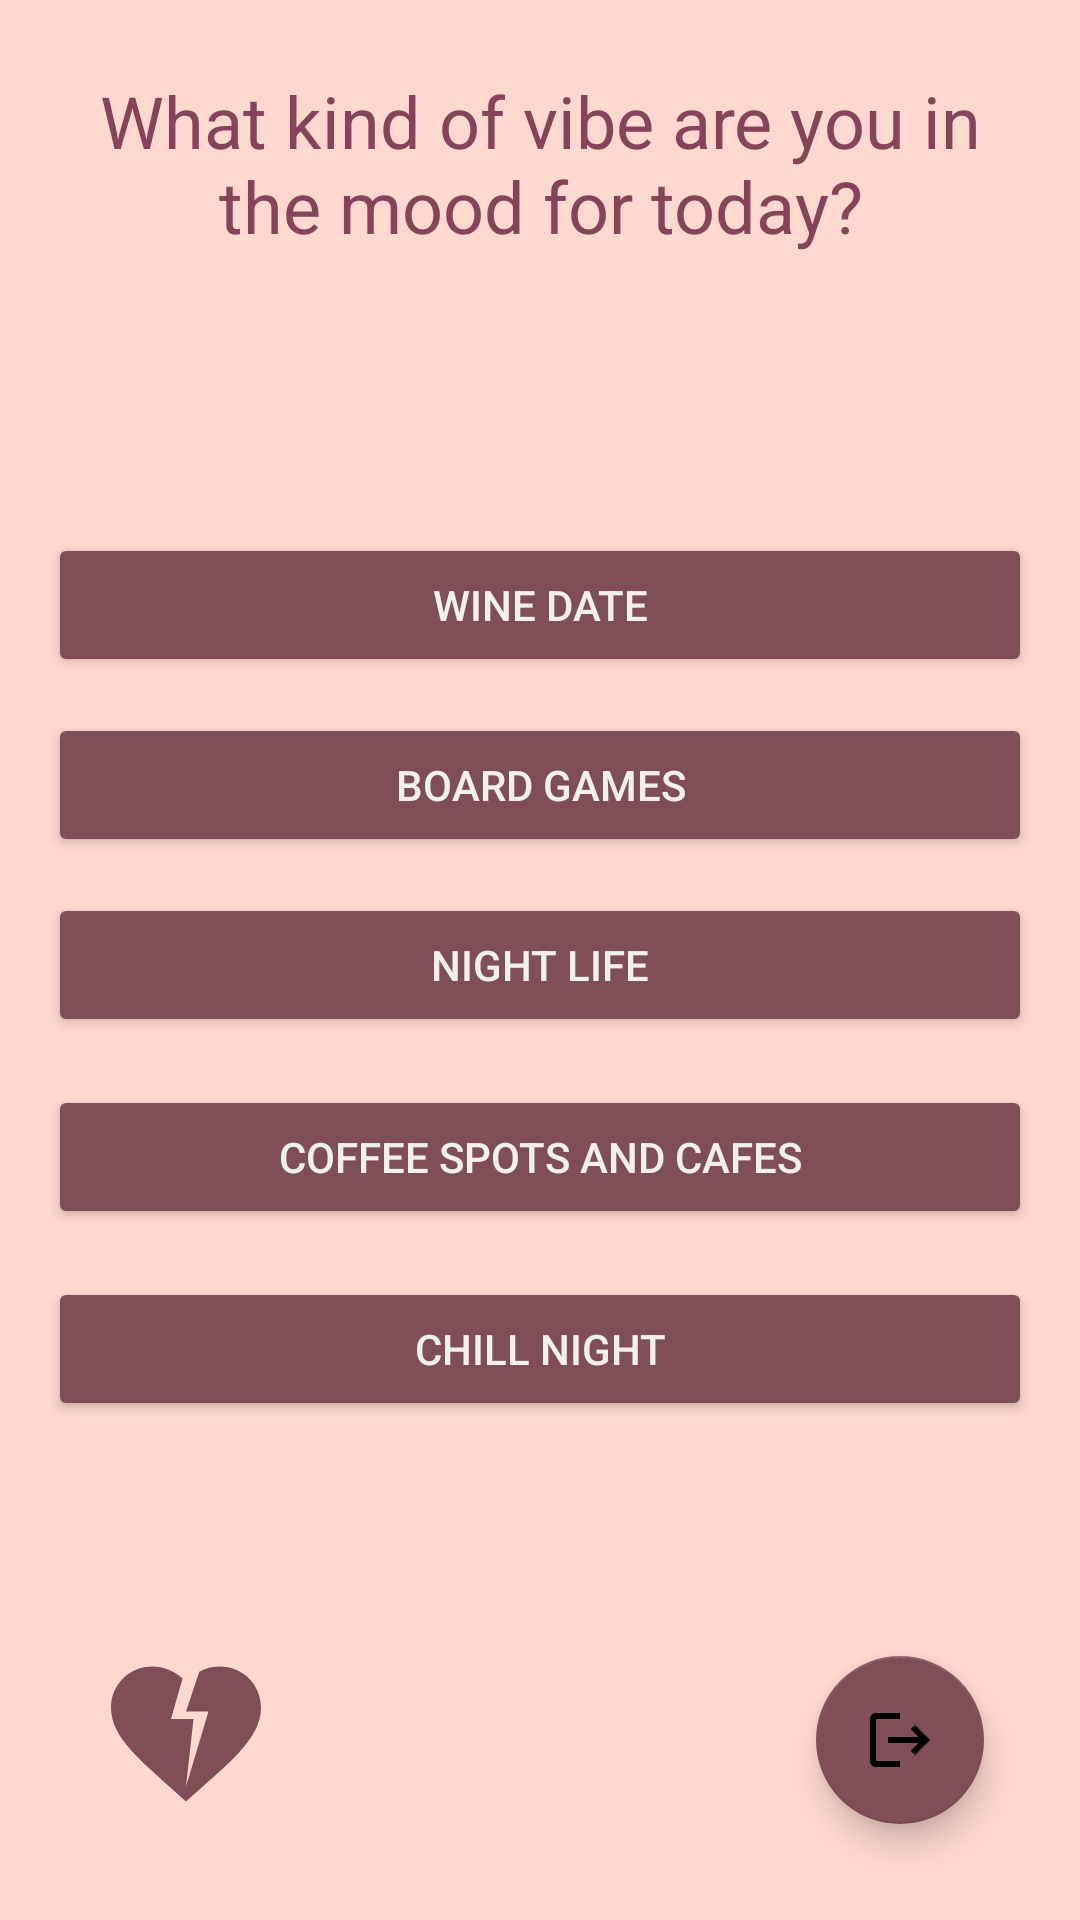

Icon bounding boxes for this 1080w x 1920h phone screenshot, format (x1, y1, x2, y2):
Favorites Button: (111, 1666, 261, 1801)
